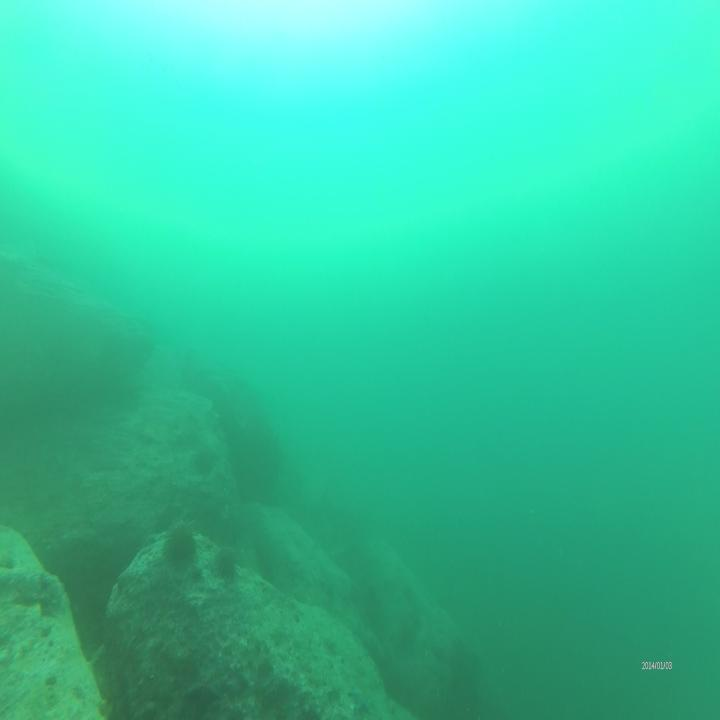echinus: (162, 517, 198, 562), (216, 541, 240, 579)
